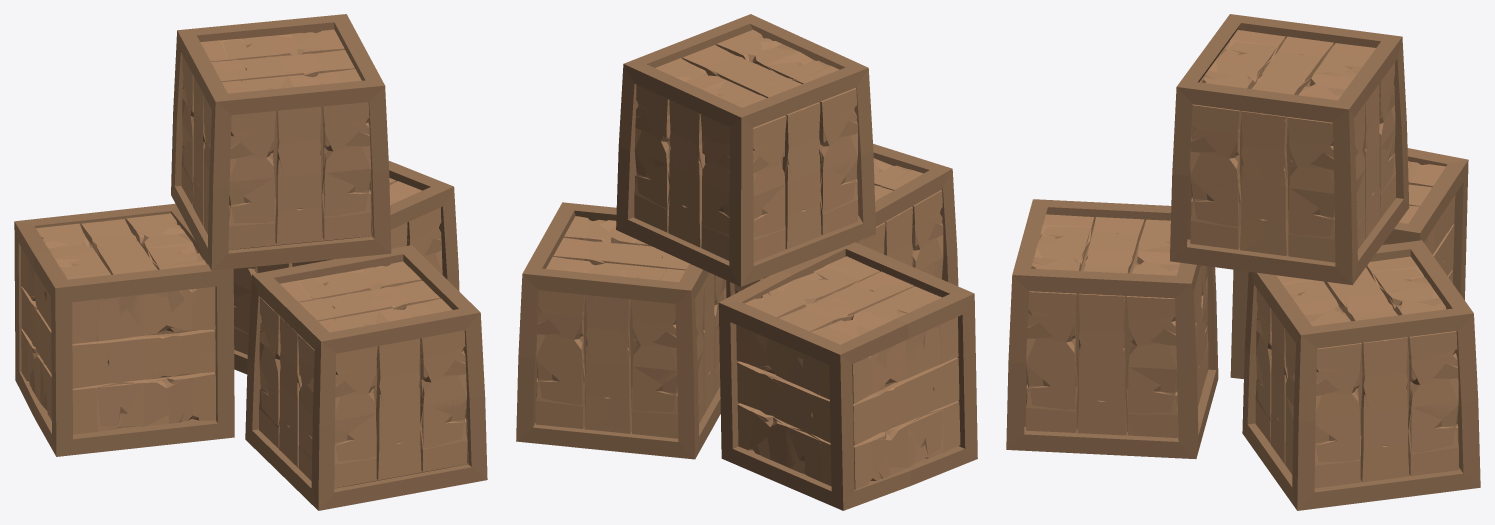
The model's file is BOXES2.fbx.
The picture shows the model from 3 angles, left to right: view 1: azimuth 30°, elevation 25°; view 2: azimuth 150°, elevation 25°; view 3: azimuth 270°, elevation 25°; orthographic projection. The views are drawn at different scales.
Visible parts, largest first — view 1: Cube.030; view 2: Cube.030; view 3: Cube.030.
Boxes of the visible parts, box(x1,y1,x2,y2) form: Cube.030: box(14, 14, 487, 510); Cube.030: box(516, 14, 977, 510); Cube.030: box(1006, 14, 1480, 510).
Size of the model in its own units: 773 by 614 by 741.
